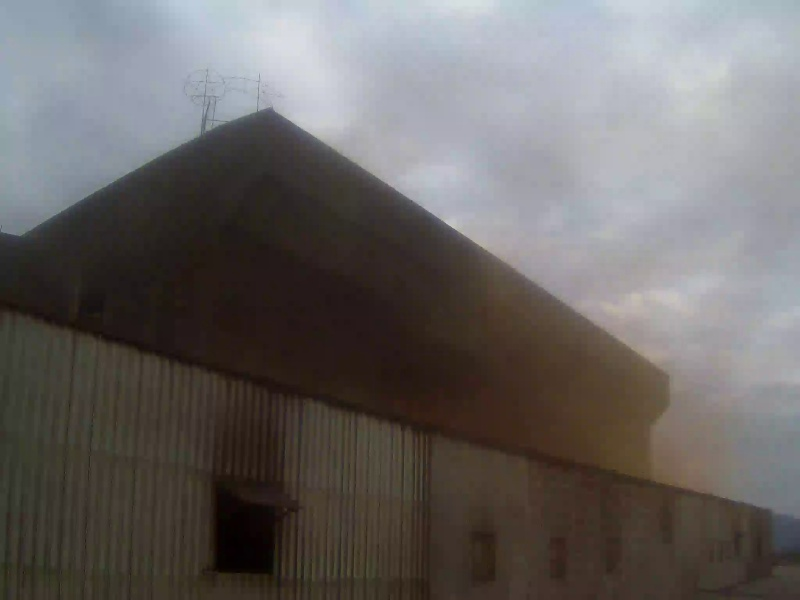Pessimo: (484, 251, 731, 506)
